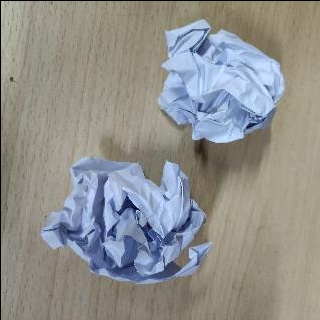8/可回收垃圾/纸: (39, 155, 212, 283), (157, 18, 286, 144)
